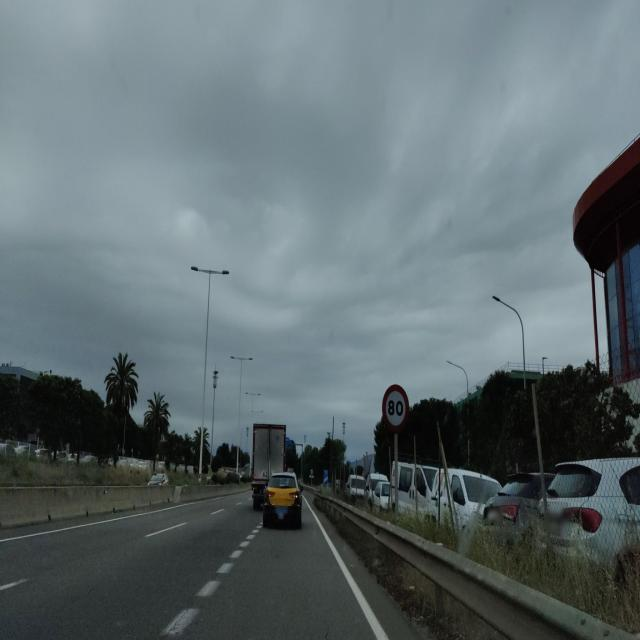car: (515, 456, 640, 578), (430, 467, 503, 528), (262, 471, 302, 530), (372, 481, 396, 512), (366, 472, 388, 502), (345, 474, 366, 500), (148, 472, 170, 487)
